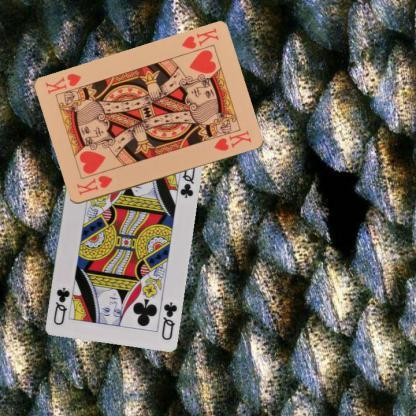Kh: (178, 25, 221, 51), (73, 173, 114, 197)
Qc: (158, 299, 178, 341)
